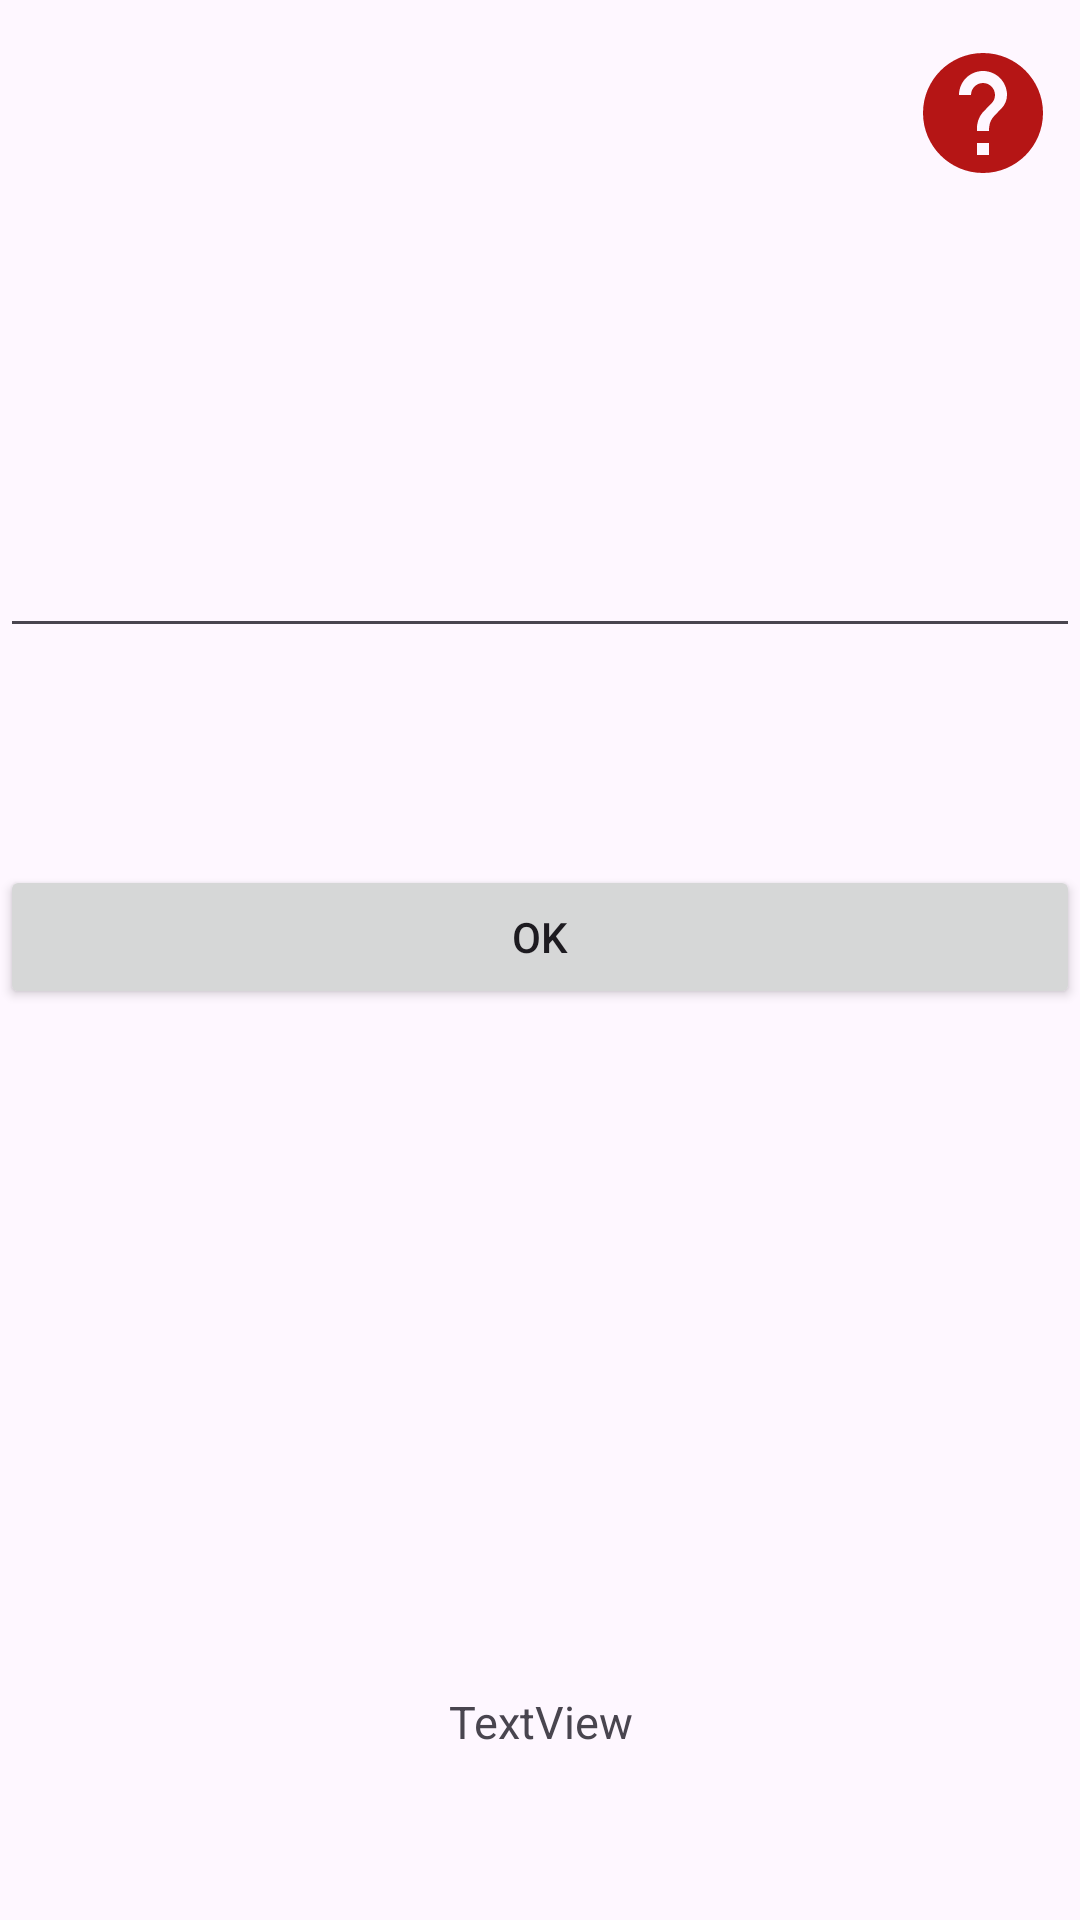

Point at icon controls on the screen. Image size 1080px×1920px, points as point (x, y).
ayuda: point (983, 113)
